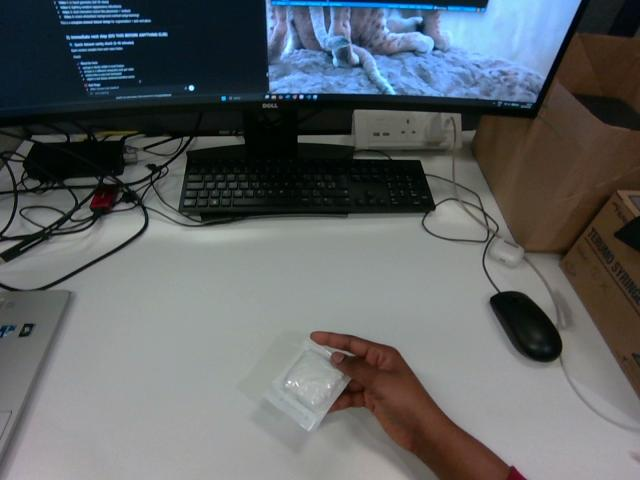gauze: (264, 340, 349, 430)
